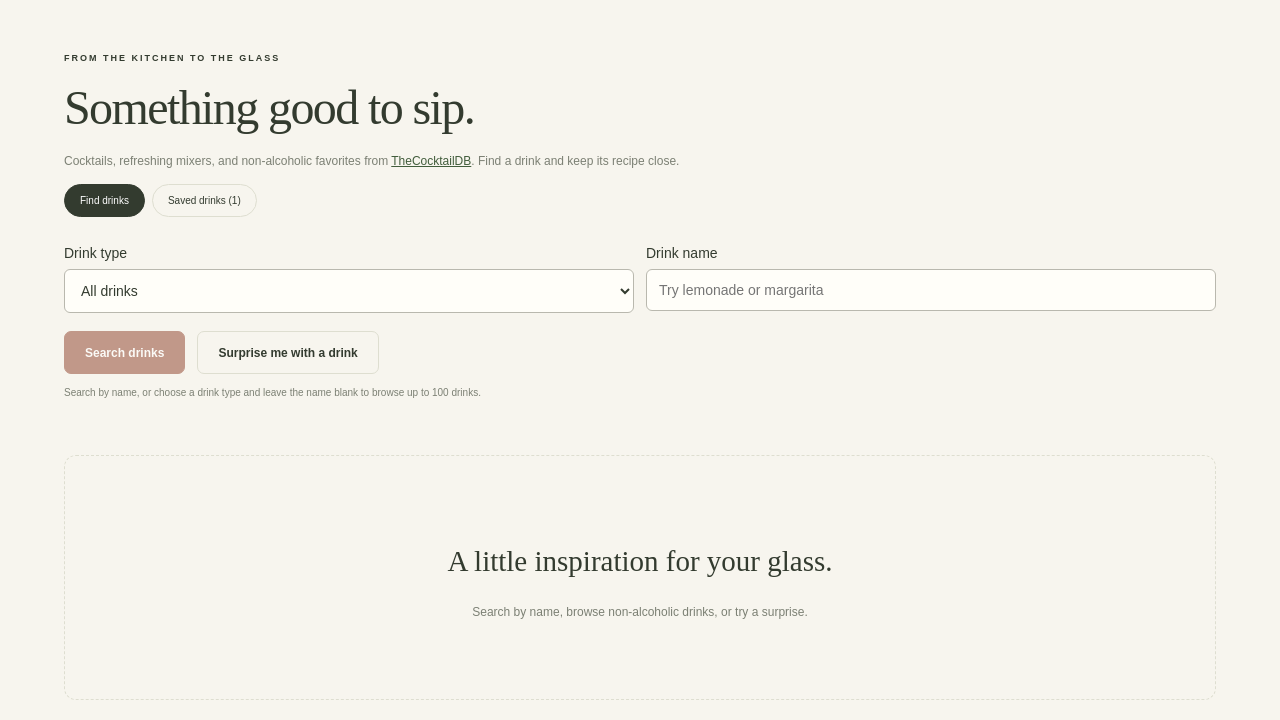
Test case: a provider outage leaves saved drinks usable
This screenshot has width=1280, height=720.
Check: the button "Saved drinks (1)" is shown, box [152, 184, 257, 217]
Type "Margarita" into the field labelled "Drink name".
click(931, 290); type("Margarita")  # box [646, 269, 1216, 311]
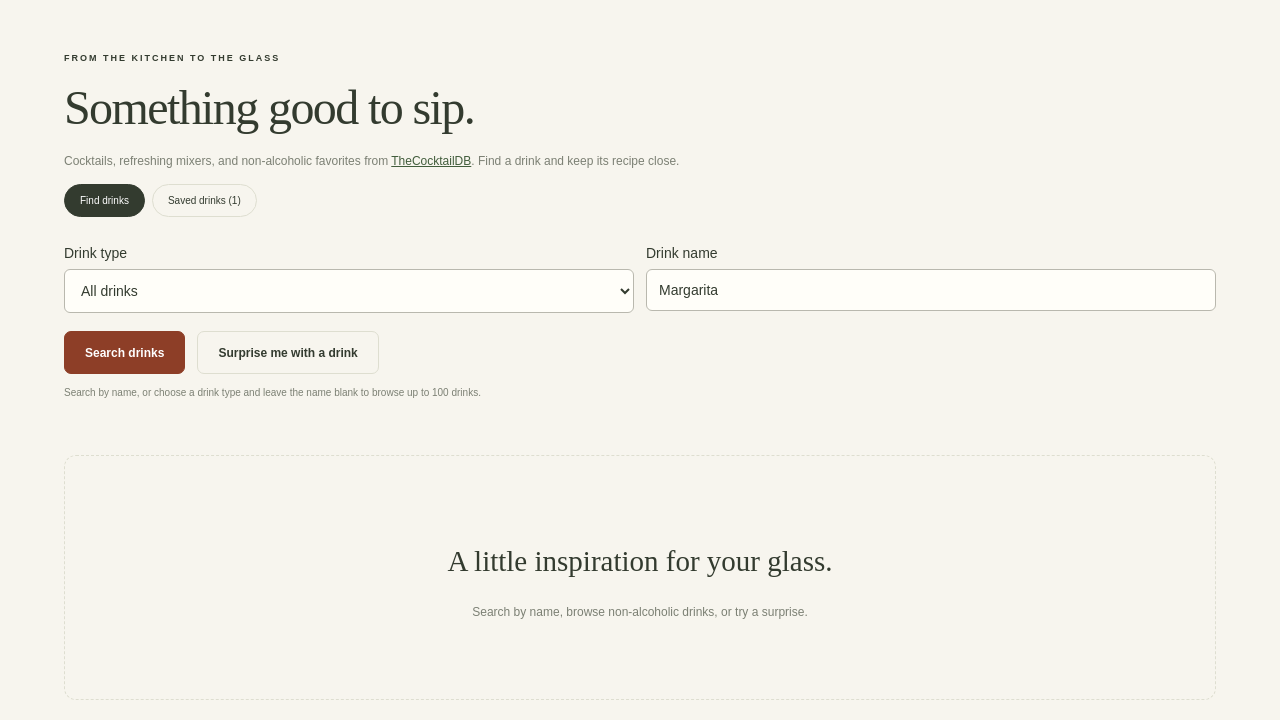
Click the button "Search drinks".
click(125, 352)  # box [64, 331, 185, 374]
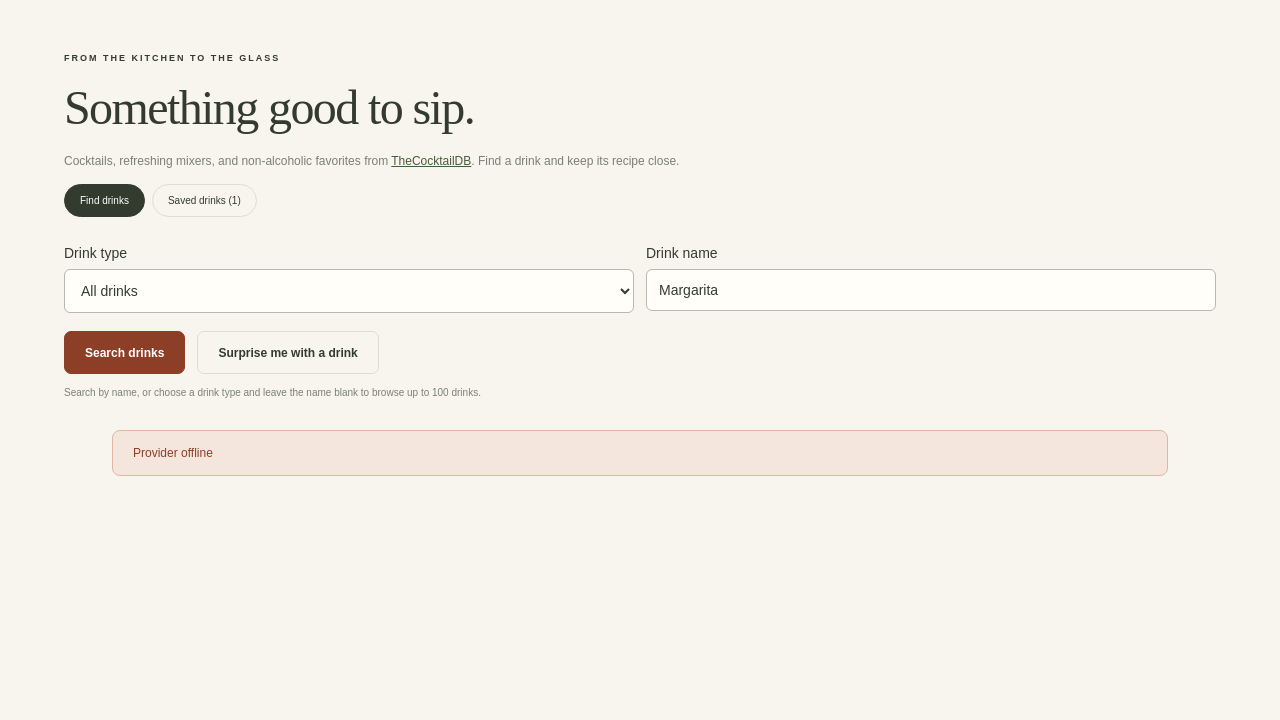
Check: the message "Provider offline" is shown, box [112, 430, 1168, 476]
Click the button "Saved drinks (1)".
click(204, 200)  # box [152, 184, 257, 217]
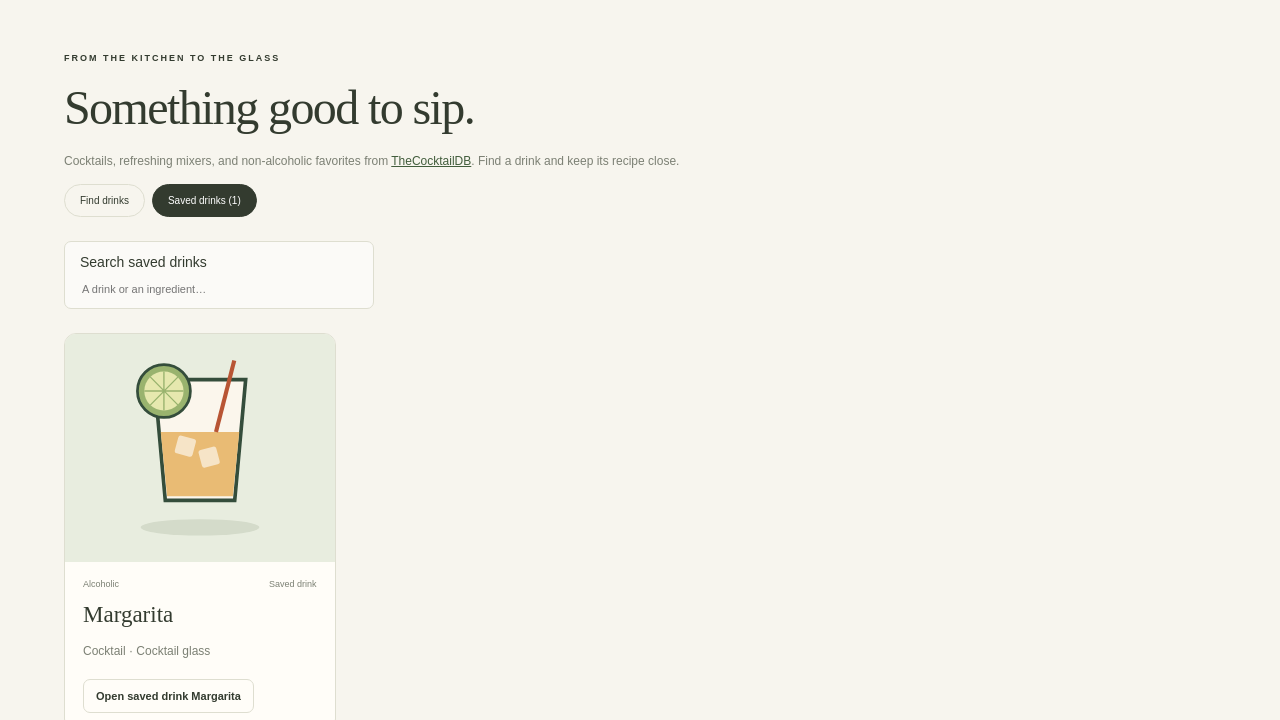
Click the button "Open saved drink Margarita".
click(168, 696)  # box [83, 679, 254, 713]
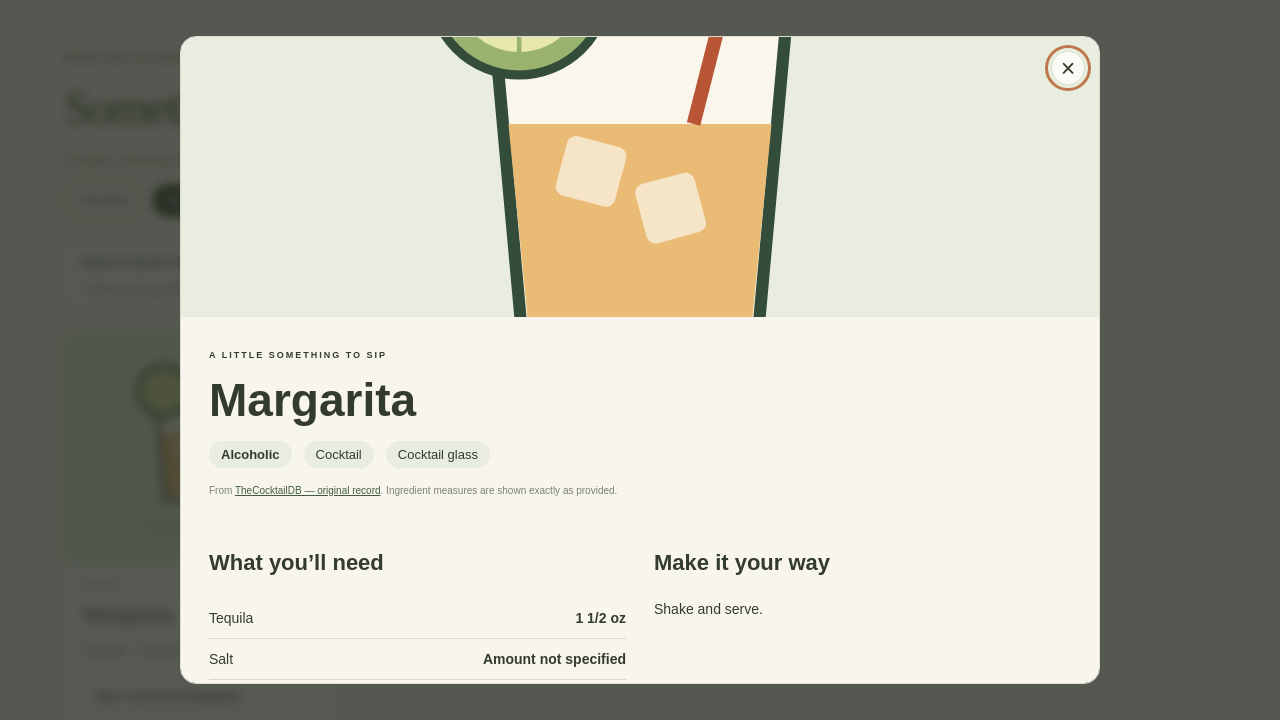
Check: the dialog is shown
